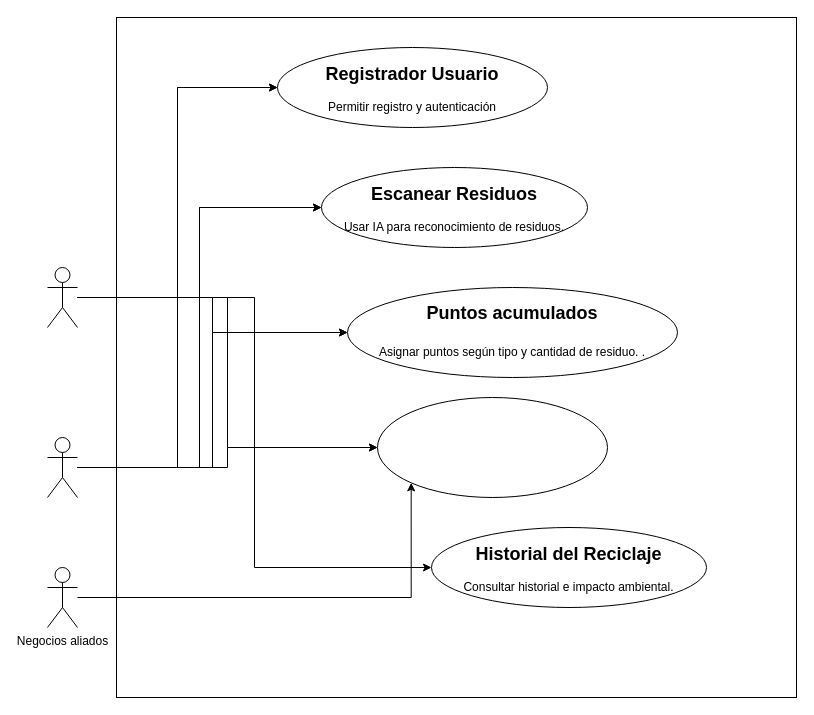
Image size: 814x715. Some labels were removed from this diagram. The shapes that lost their labels are listed below. From the top down, each one's box as (x1, y1, x2, y2) in pixels, then its label:
(46, 266, 78, 328): Administrador
(46, 436, 78, 498): Usuario
(376, 396, 608, 498): Canjear puntos Obtener beneficios en comercios aliados
